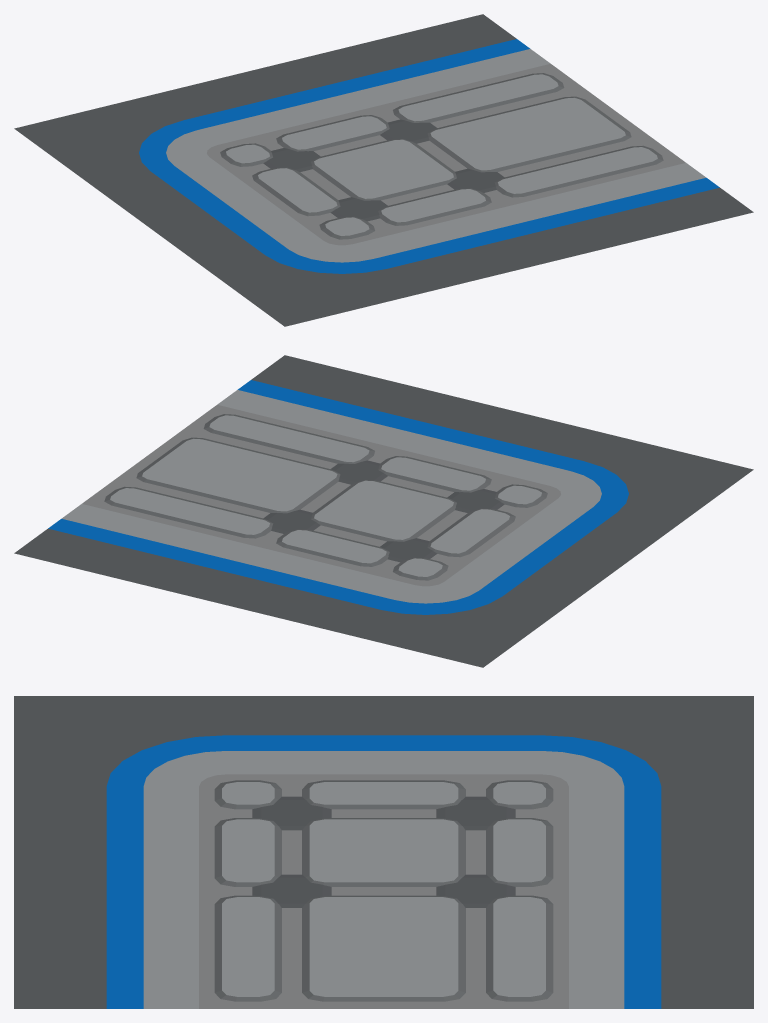
The model's file is Floor_type_B_018.fbx.
The picture shows the model from 3 angles, top to bottom: view 1: azimuth 30°, elevation 25°; view 2: azimuth 150°, elevation 25°; view 3: azimuth 270°, elevation 25°; orthographic projection. The views are drawn at different scales.
Parts seen in each view (by area): view 1: Floor_type_B_018; view 2: Floor_type_B_018; view 3: Floor_type_B_018.
Part boxes in pixels (x1,y1,x2,y2): Floor_type_B_018: [14, 14, 753, 326]; Floor_type_B_018: [14, 355, 753, 667]; Floor_type_B_018: [14, 696, 753, 1008].
Size of the model in its own units: 400 by 400 by 1.34.
